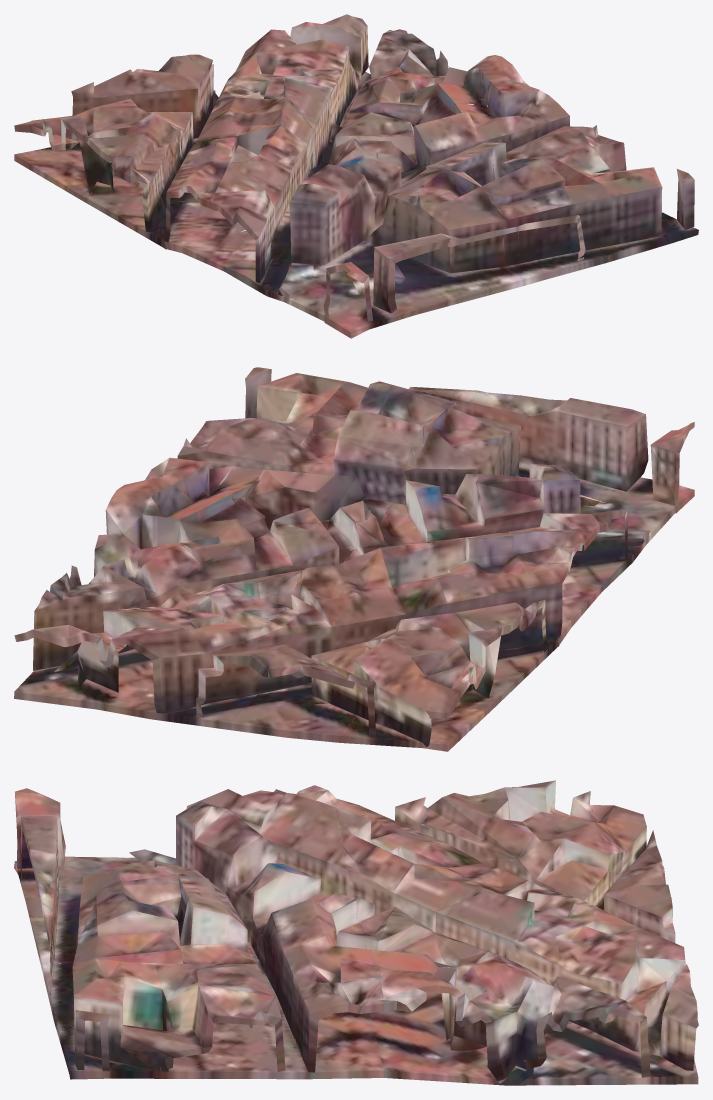
3 views of the same model, one above another, from view 1: azimuth 30°, elevation 25°; view 2: azimuth 150°, elevation 25°; view 3: azimuth 270°, elevation 25° (orthographic). The views are drawn at different scales.
Parts seen in each view (by area): view 1: Mesh_0; view 2: Mesh_0; view 3: Mesh_0.
Boxes of the visible parts, x1,y1,x2,y2 form: Mesh_0: (14,14,698,338); Mesh_0: (14,367,694,751); Mesh_0: (14,780,698,1085).
Bounding box in the file's own units: 133 × 35.98 × 165.
1 material, 1 textured.
